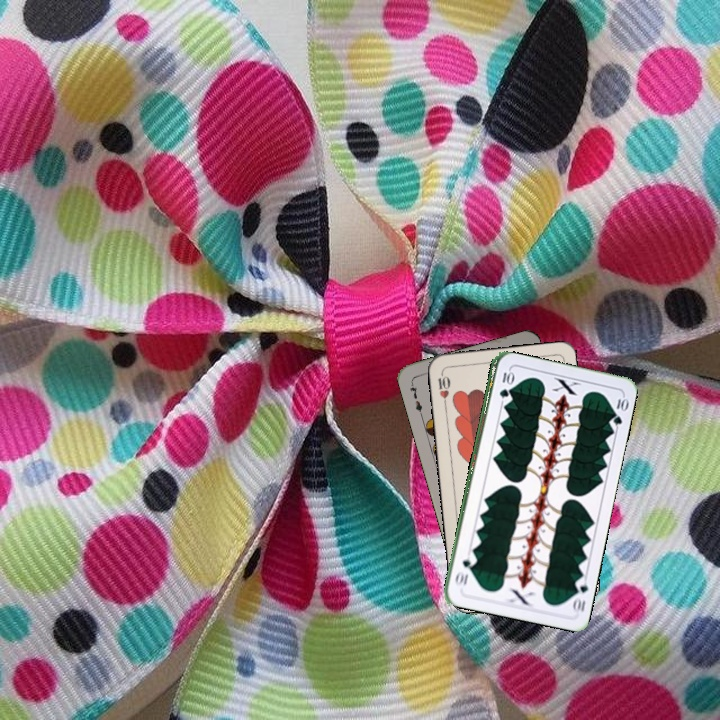E7: (406, 378, 425, 418)
G10: (568, 574, 590, 614), (495, 367, 513, 401)
H10: (433, 368, 453, 409)
